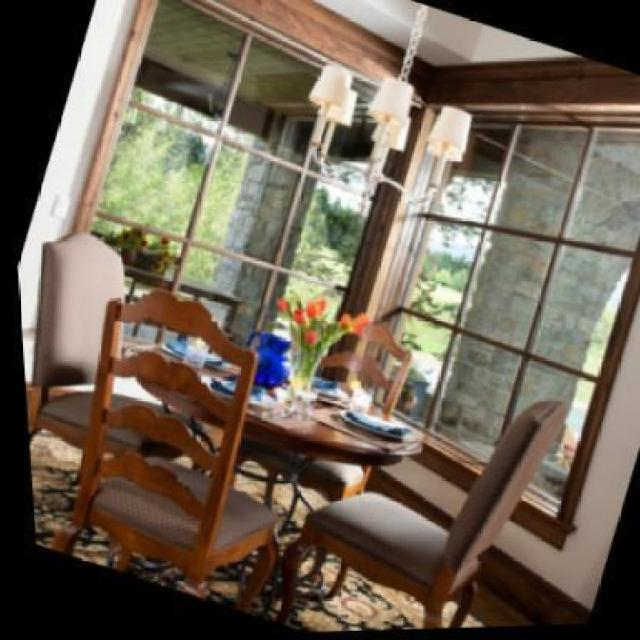tables: (116, 338, 424, 622)
